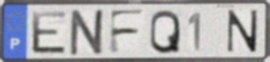1: (187, 11, 202, 52)
E: (30, 10, 68, 56)
F: (107, 8, 147, 56)
N: (68, 8, 109, 58), (225, 9, 261, 54)
Q: (148, 8, 182, 56)
